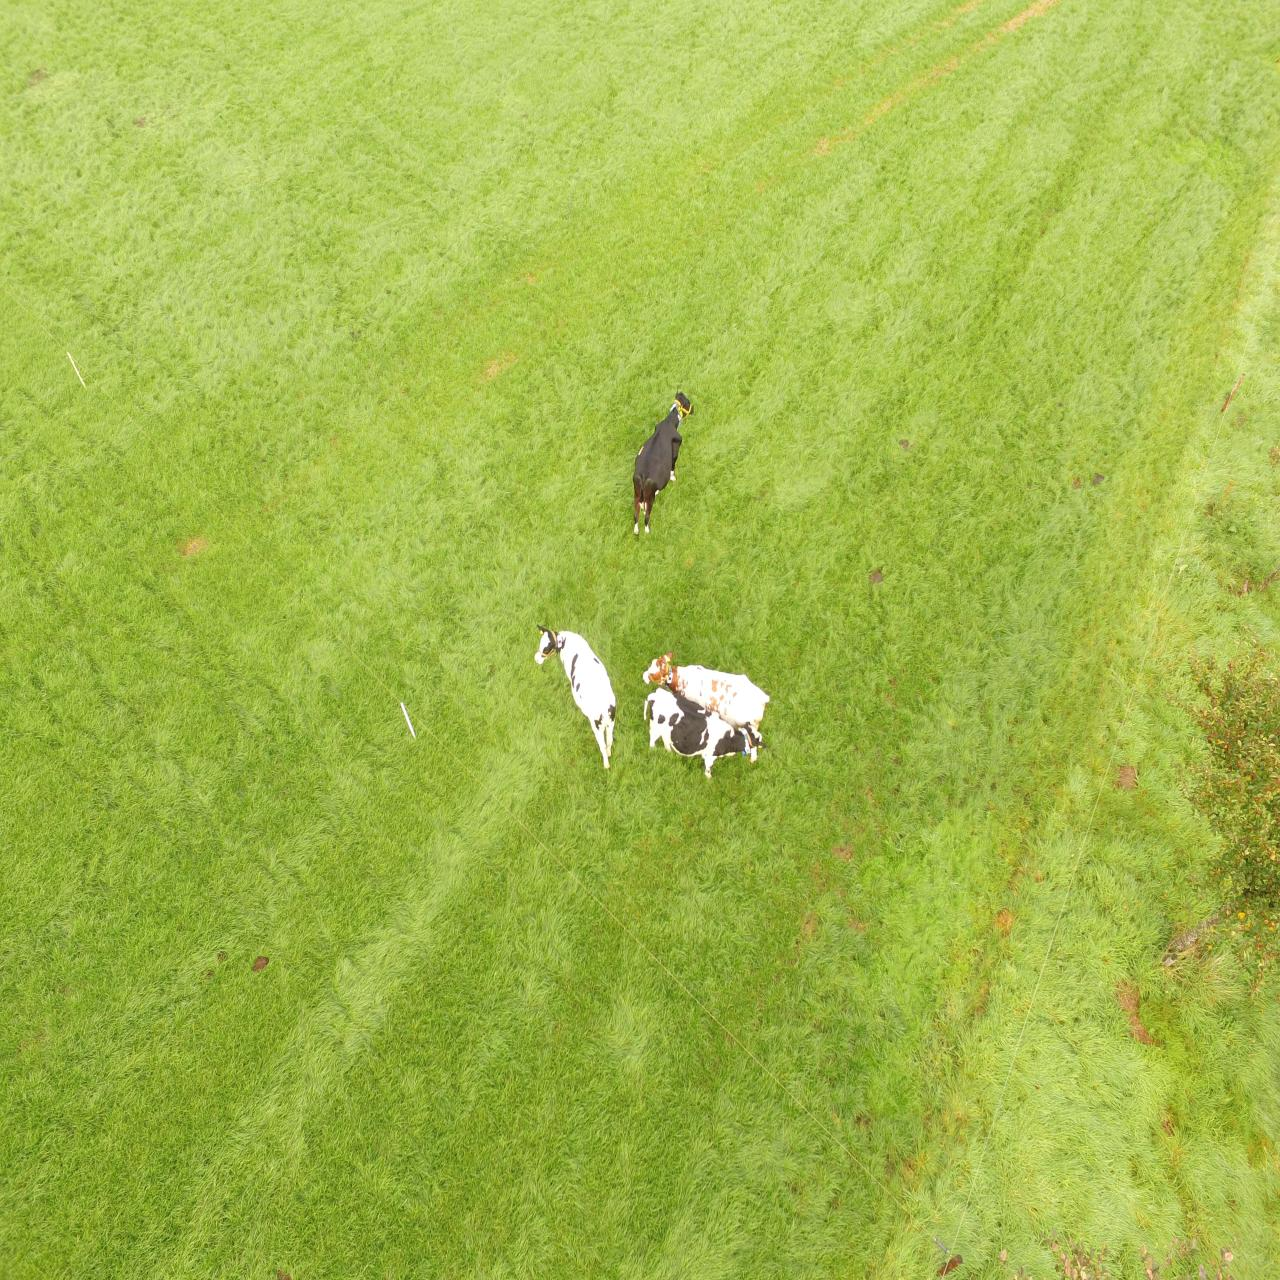cow: (536, 620, 619, 776), (631, 688, 761, 778), (644, 652, 772, 741), (626, 390, 688, 535)
